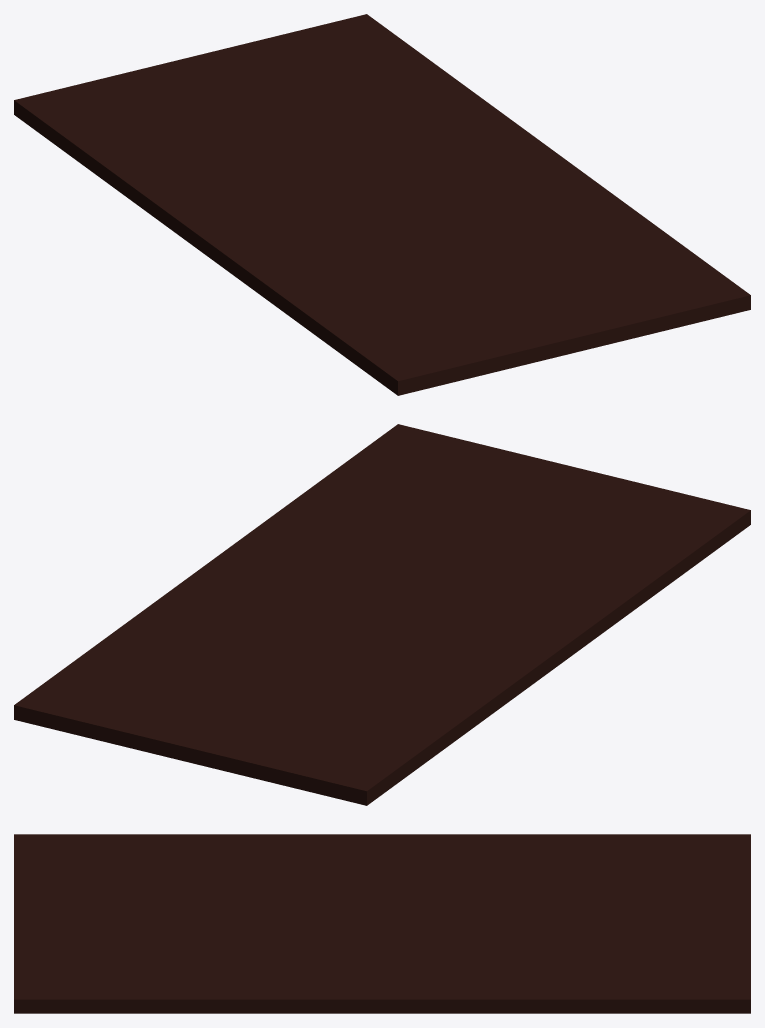
File: platforma_mostic2.fbx
3 renders of one model, top to bottom at view 1: azimuth 30°, elevation 25°; view 2: azimuth 150°, elevation 25°; view 3: azimuth 270°, elevation 25°, orthographic. The views are drawn at different scales.
Parts seen in each view (by area): view 1: Platforma; view 2: Platforma; view 3: Platforma.
Part boxes in pixels (<box>): Platforma: <box>14,14,750,395</box>; Platforma: <box>14,424,750,805</box>; Platforma: <box>14,834,750,1013</box>.
Size of the model in its own units: 39.43 by 74.33 by 1.56.
